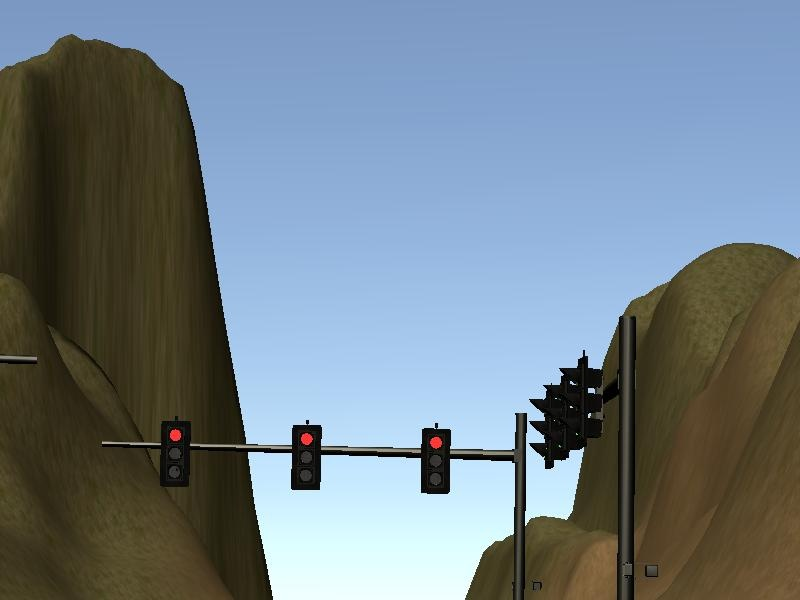red: (416, 420, 455, 498), (287, 416, 325, 493), (156, 415, 195, 490)
